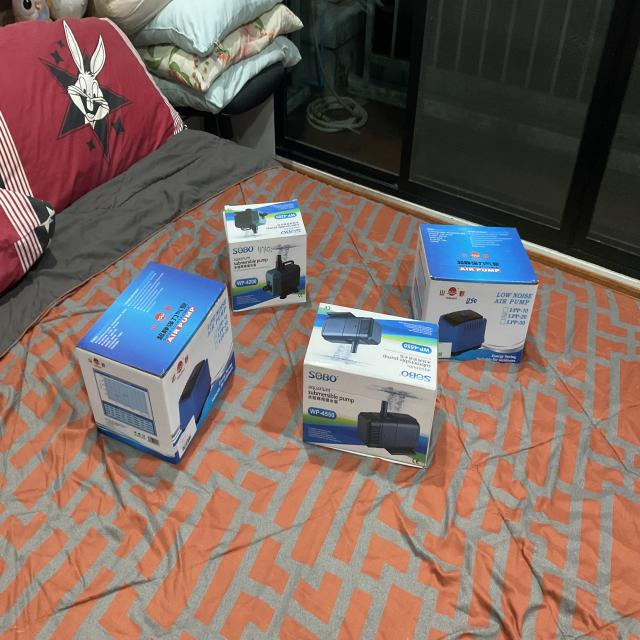SOBO_WP_4200: (300, 292, 444, 486), (218, 192, 315, 321)
YAMANO_LPP_20: (66, 246, 235, 464), (404, 210, 557, 374)
